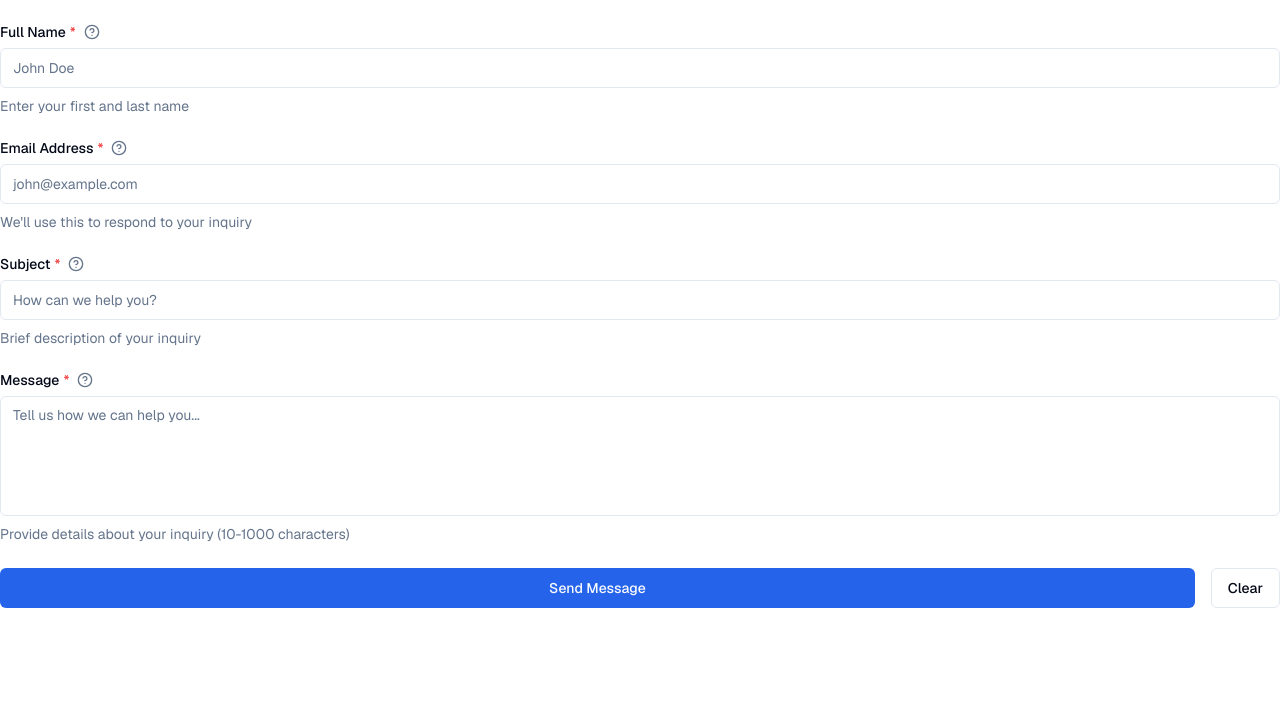
Test case: Form Validation Components › ContactForm › validates field length constraints
The width and height of the screenshot is (1280, 720).
Type "A" into the field labelled "Full Name *" at x=640, y=68, box [0,48,1279,88]
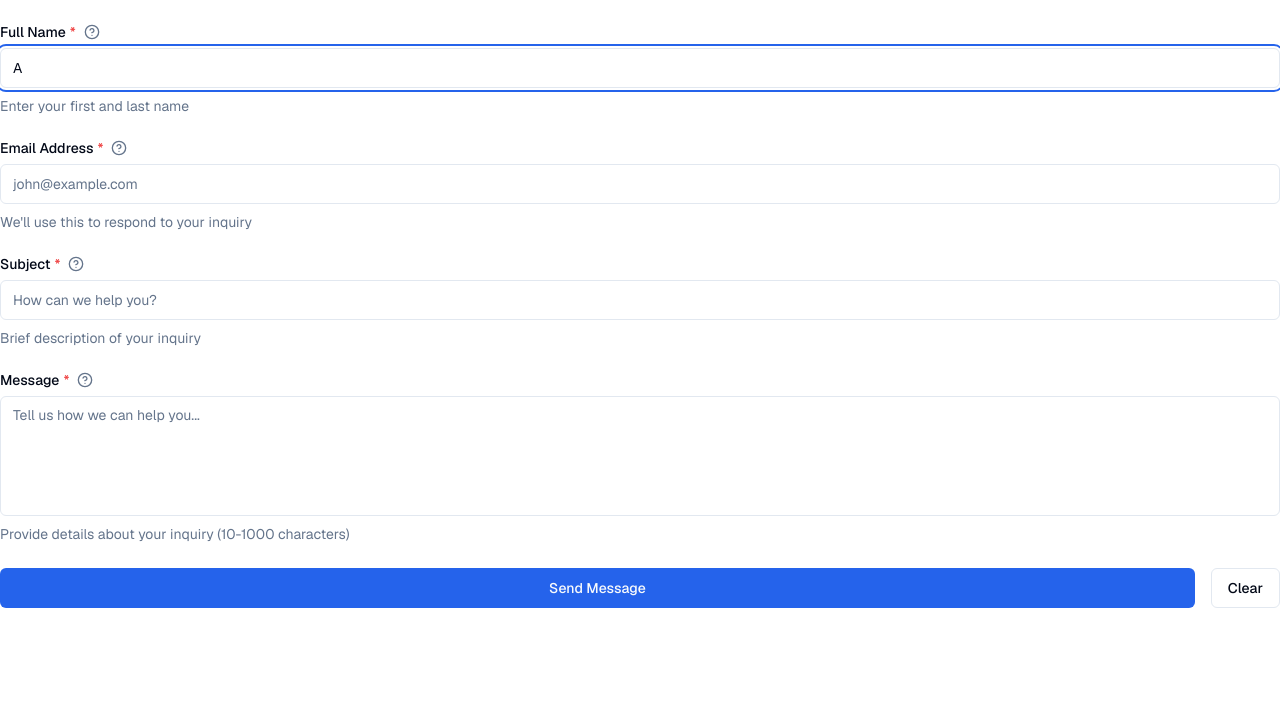
Type "Hi" into the field labelled "Subject *" at x=640, y=300, box [0,280,1279,320]
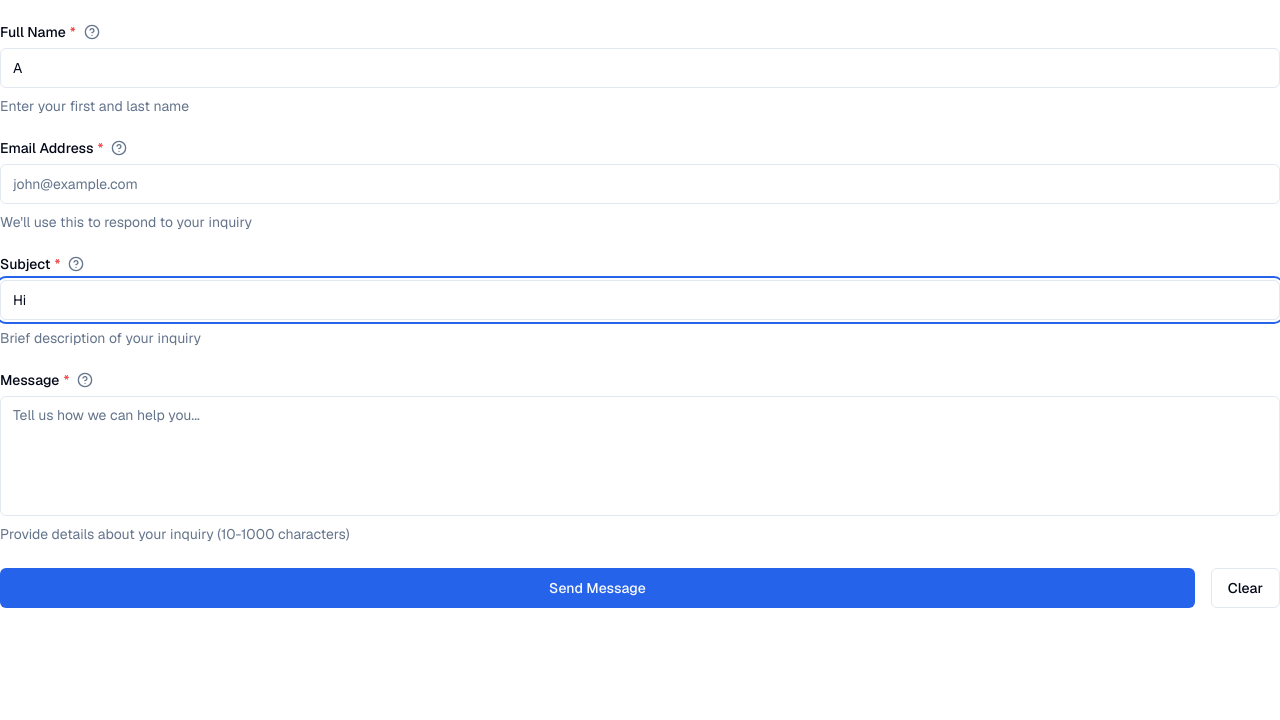
Type "Short" into the text box labelled "Message *" at x=640, y=456, box [0,396,1279,516]
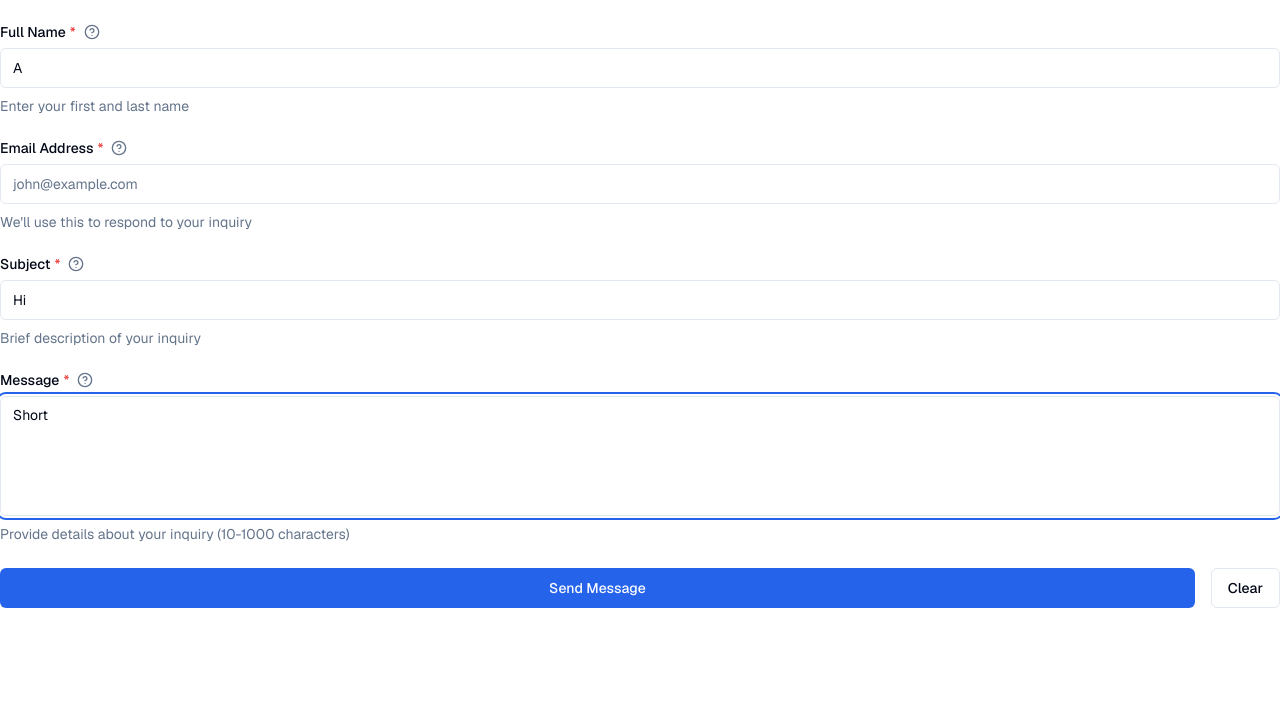
Click the button "Send Message" at x=597, y=588, box [0,568,1195,608]
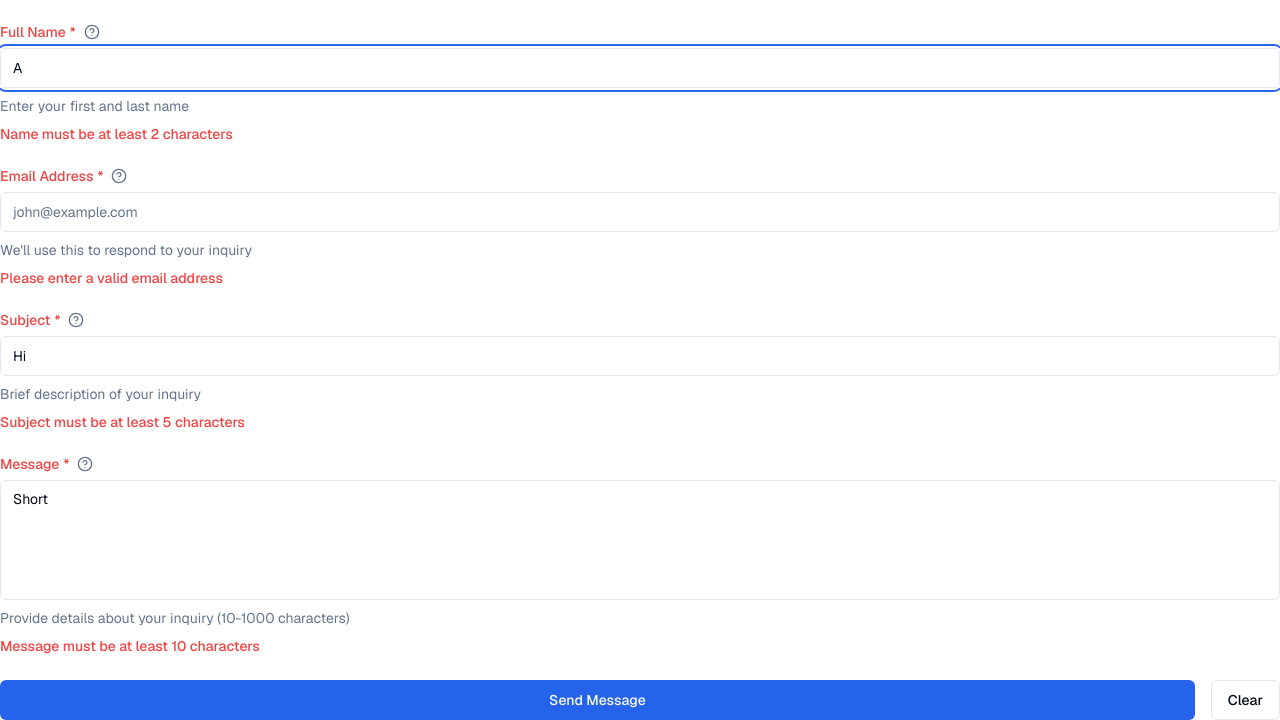
Expected: the text "Name must be at least 2 characters" is shown, [0,125,233,143]
Expected: the text "Subject must be at least 5 characters" is shown, [0,413,245,431]
Expected: the text "Message must be at least 10 characters" is shown, [0,637,260,655]
